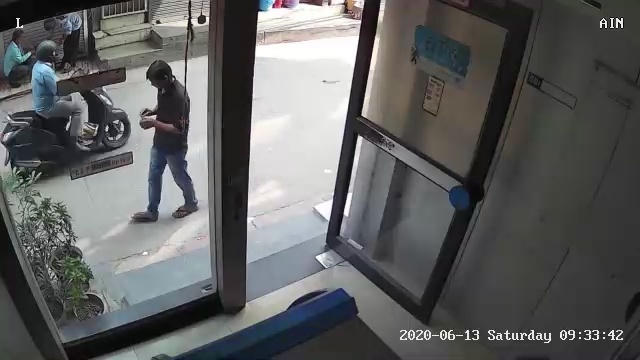open: (200, 4, 537, 345)
